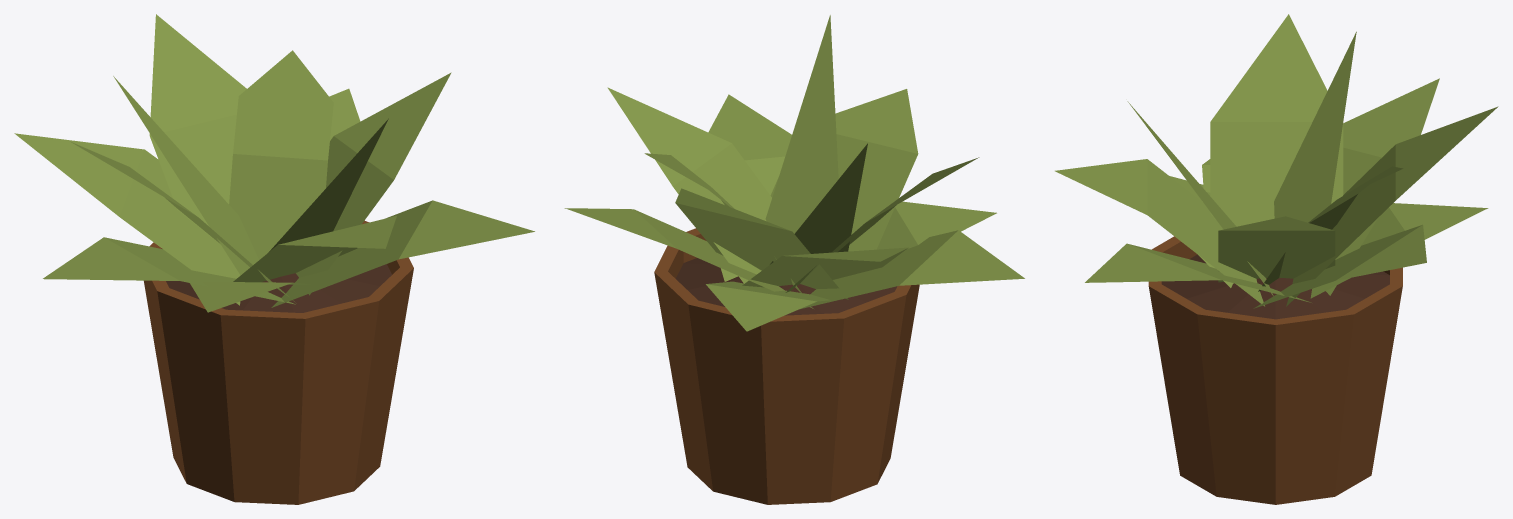
Rendered from Pot_Flower_1.fbx.
3 views of the same model, side by side, from view 1: azimuth 30°, elevation 25°; view 2: azimuth 150°, elevation 25°; view 3: azimuth 270°, elevation 25° (orthographic). The views are drawn at different scales.
Parts seen in each view (by area): view 1: polySurface1583; view 2: polySurface1583; view 3: polySurface1583.
Part boxes in pixels (x1,y1,x2,y2): polySurface1583: (14, 14, 534, 504); polySurface1583: (564, 15, 1024, 504); polySurface1583: (1055, 14, 1498, 504).
Bounding box in the file's own units: 0.5242 × 0.4698 × 0.4993.
Materials: 1 (1 with a texture image).
